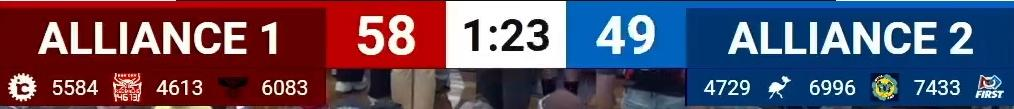blue_score: (593, 12, 660, 57)
red_score: (354, 13, 419, 59)
team_number: (910, 76, 962, 99), (702, 78, 753, 97), (260, 78, 310, 97), (807, 78, 856, 97), (155, 78, 203, 97), (51, 78, 98, 96)
timer: (460, 16, 553, 54)
